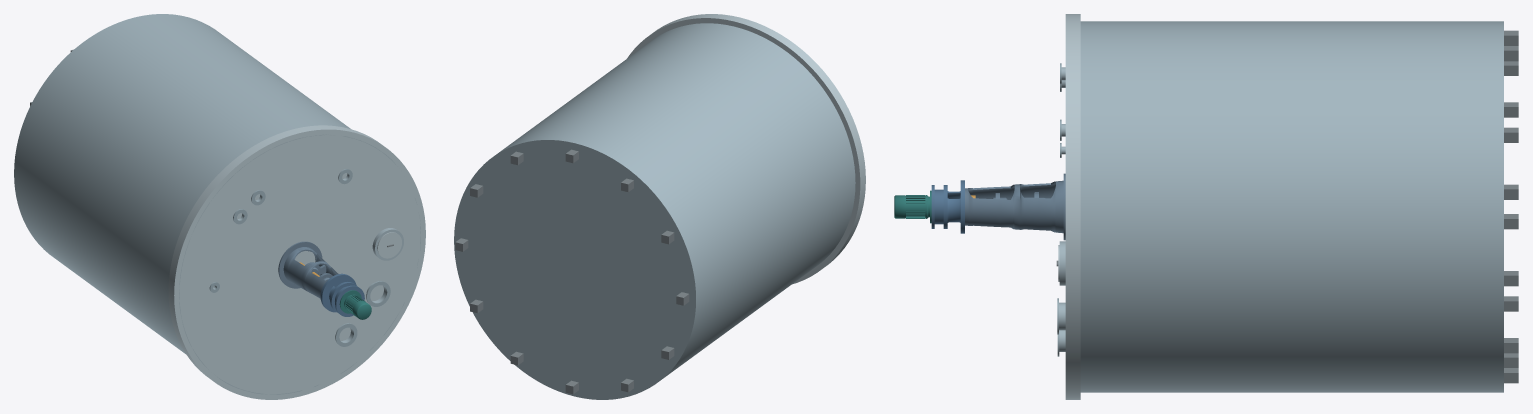
The picture shows the model from 3 angles, left to right: view 1: azimuth 30°, elevation 25°; view 2: azimuth 150°, elevation 25°; view 3: azimuth 270°, elevation 25°; orthographic projection. The views are drawn at different scales.
Parts seen in each view (by area): view 1: 本体_筒壳, 槽盖_盖板, 支架_06_Tapered_window_frame_with_bored_seats, 驱动_01_Motor, 支架_06_Frame_foot, 接口_人孔盖, 驱动_02_Base_flange_top; view 2: 本体_筒壳, 本体_平底, 槽盖_盖板; view 3: 本体_筒壳, 槽盖_盖板, 支架_06_Tapered_window_frame_with_bored_seats, 驱动_01_Motor.
Part boxes in pixels (x1,y1,x2,y2): 本体_筒壳: (14,14,420,394); 槽盖_盖板: (168,125,425,399); 支架_06_Tapered_window_frame_with_bored_seats: (283,247,338,298); 驱动_01_Motor: (339,290,371,319); 支架_06_Frame_foot: (278,241,322,288); 接口_人孔盖: (377,232,401,258); 驱动_02_Base_flange_top: (321,274,356,312); 本体_筒壳: (454,23,855,399); 本体_平底: (454,140,695,399); 槽盖_盖板: (627,14,865,284); 本体_筒壳: (1080,21,1503,392); 槽盖_盖板: (1065,14,1080,399); 支架_06_Tapered_window_frame_with_bored_seats: (965,180,1063,233); 驱动_01_Motor: (894,190,931,223).
Bounding box in the file's own units: 5.2 × 5.2 × 8.41.
